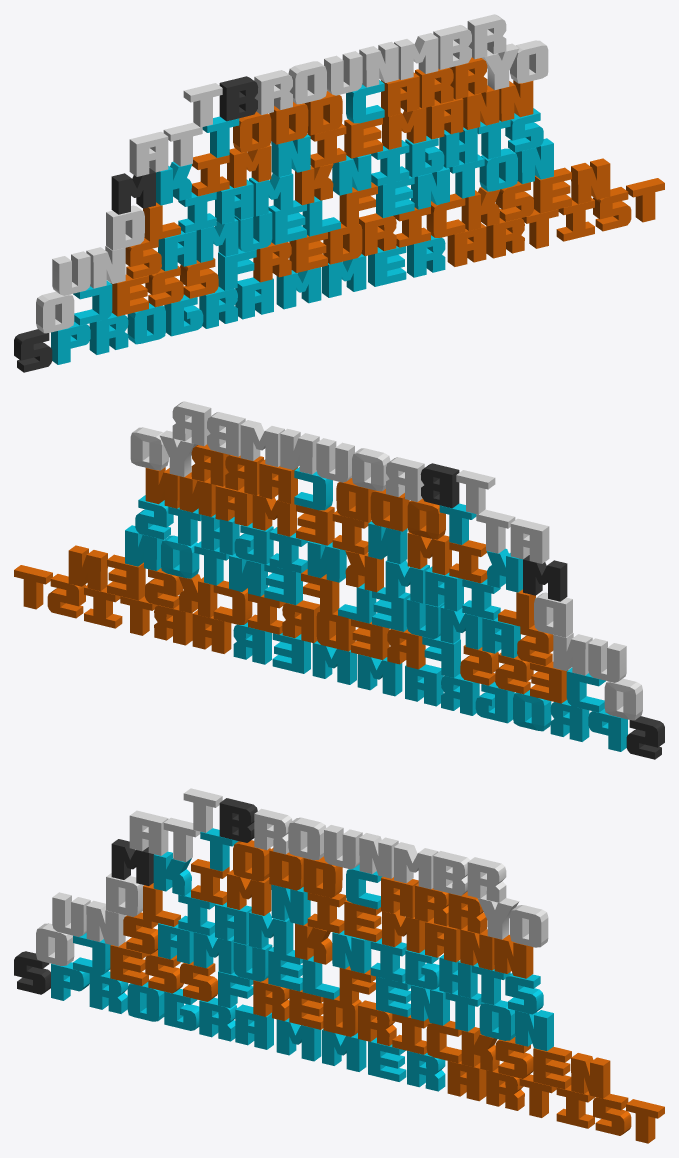
Rendered from Credit_Tower.fbx.
3 renders of one model, top to bottom at view 1: azimuth 30°, elevation 25°; view 2: azimuth 150°, elevation 25°; view 3: azimuth 330°, elevation 25°, orthographic.
Parts seen in each view (by area): view 1: Matt_001, Jess_0015, Matt_002, Matt_0010, Matt_005, Sound_003, Kim_003, Pro_007, Matt_009, Pro_008, Kim_007, Sound_005 (+79 smaller); view 2: Matt_001, Jess_0015, Matt_002, Matt_0010, Matt_005, Sound_003, Kim_003, Pro_007, Matt_009, Pro_008, Kim_007, Sound_005 (+79 smaller); view 3: Jess_0015, Matt_0012, Matt_0010, Matt_002, Matt_001, Liam_004, Kim_003, Pro_007, Matt_0014, Matt_005, Pro_008, Jess_0014 (+79 smaller).
Boxes of the visible parts, <box> form: Matt_001: <box>111,168,155,214</box>; Jess_0015: <box>571,158,610,204</box>; Matt_002: <box>129,131,168,176</box>; Matt_0010: <box>394,33,438,79</box>; Matt_005: <box>219,76,258,121</box>; Sound_003: <box>52,251,90,295</box>; Kim_003: <box>227,145,271,188</box>; Pro_007: <box>276,267,321,309</box>; Matt_009: <box>359,41,398,87</box>; Pro_008: <box>322,254,366,297</box>; Kim_007: <box>382,107,426,149</box>; Sound_005: <box>106,205,144,250</box>; Matt_001: <box>523,555,567,601</box>; Jess_0015: <box>68,545,107,591</box>; Matt_002: <box>510,518,549,563</box>; Matt_0010: <box>240,420,284,466</box>; Matt_005: <box>420,463,459,508</box>; Sound_003: <box>588,638,626,682</box>; Kim_003: <box>407,532,451,575</box>; Pro_007: <box>357,654,402,696</box>; Matt_009: <box>280,428,319,474</box>; Pro_008: <box>312,641,356,684</box>; Kim_007: <box>252,494,296,536</box>; Sound_005: <box>534,592,572,637</box>; Jess_0015: <box>571,1053,610,1098</box>; Matt_0012: <box>467,857,506,902</box>; Matt_0010: <box>394,842,438,889</box>; Matt_002: <box>129,810,168,855</box>; Matt_001: <box>111,839,153,885</box>; Liam_004: <box>249,911,293,954</box>; Kim_003: <box>227,870,271,915</box>; Pro_007: <box>276,1018,321,1061</box>; Matt_0014: <box>510,905,548,947</box>; Matt_005: <box>219,798,257,842</box>; Pro_008: <box>322,1029,366,1071</box>; Jess_0014: <box>533,1046,571,1089</box>.
Size of the model in its own units: 0.3177 by 0.1122 by 0.00622.
